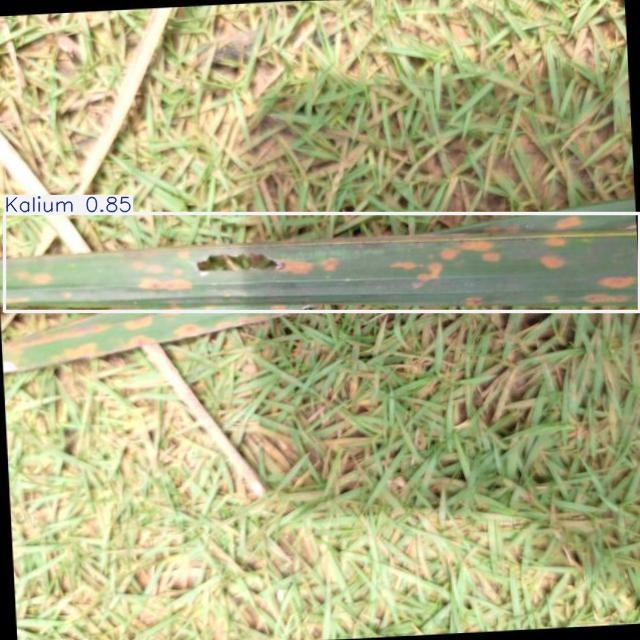Kalium: (4, 213, 640, 311)
